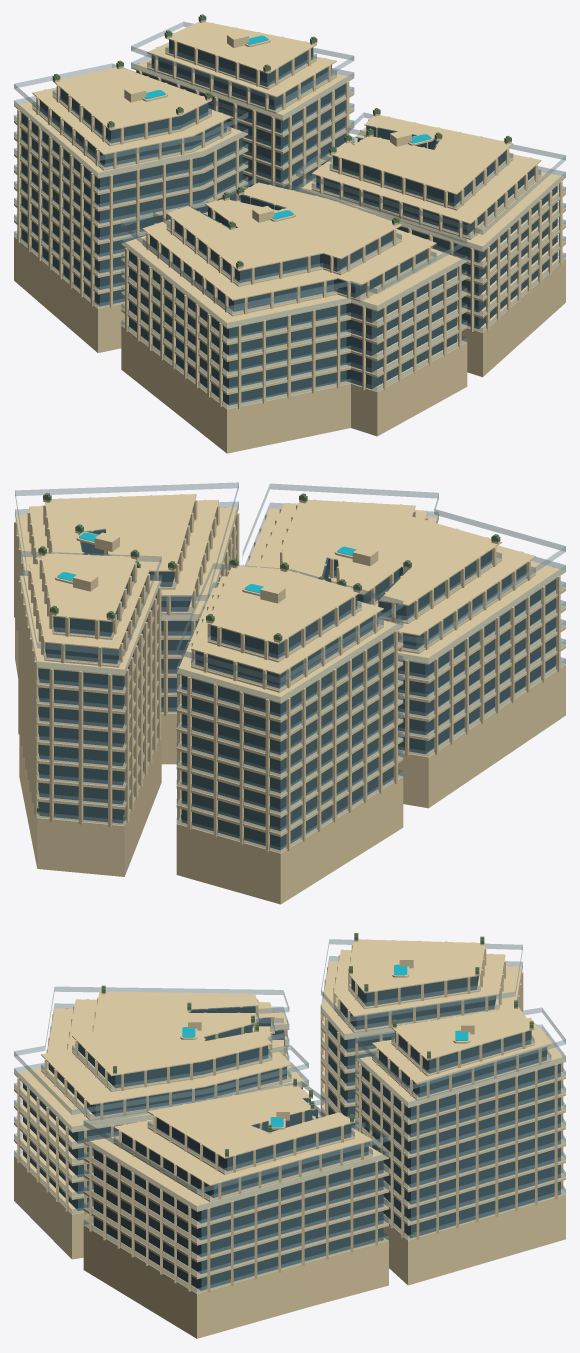
The model's file is tigne-16.glb.
The picture shows the model from 3 angles, top to bottom: view 1: azimuth 30°, elevation 25°; view 2: azimuth 150°, elevation 25°; view 3: azimuth 270°, elevation 25°; orthographic projection. The views are drawn at different scales.
Parts seen in each view (by area): view 1: T6F Wohnhaus, T6B Wohnhaus, T7F Wohnhaus, T7B Wohnhaus; view 2: T6B Wohnhaus, T6F Wohnhaus, T7B Wohnhaus, T7F Wohnhaus; view 3: T7F Wohnhaus, T7B Wohnhaus, T6F Wohnhaus, T6B Wohnhaus.
Boxes of the visible parts, x1,y1,x2,y2 form: T6F Wohnhaus: [121, 177, 467, 453]; T6B Wohnhaus: [14, 60, 248, 352]; T7F Wohnhaus: [296, 108, 565, 377]; T7B Wohnhaus: [131, 14, 354, 190]; T6B Wohnhaus: [176, 558, 403, 904]; T6F Wohnhaus: [242, 483, 565, 808]; T7B Wohnhaus: [18, 546, 161, 876]; T7F Wohnhaus: [14, 482, 239, 764]; T7F Wohnhaus: [83, 1078, 388, 1338]; T7B Wohnhaus: [355, 1000, 565, 1285]; T6F Wohnhaus: [14, 985, 308, 1259]; T6B Wohnhaus: [320, 933, 523, 1131].
Bounding box in the file's own units: 80.25 × 40.6 × 92.14.
